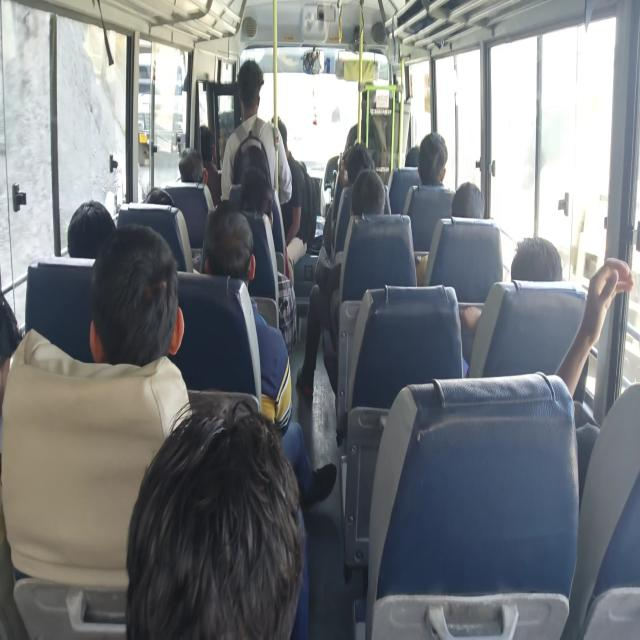person: (143, 416, 303, 640), (99, 244, 190, 363), (198, 199, 255, 270), (269, 107, 312, 201), (0, 287, 35, 397), (516, 231, 568, 293), (419, 125, 456, 198), (241, 148, 274, 214), (454, 169, 488, 229), (233, 62, 265, 121), (354, 175, 392, 219), (68, 203, 105, 241), (342, 141, 373, 177), (179, 143, 203, 185), (142, 182, 170, 215), (198, 124, 218, 162), (404, 140, 422, 172)
